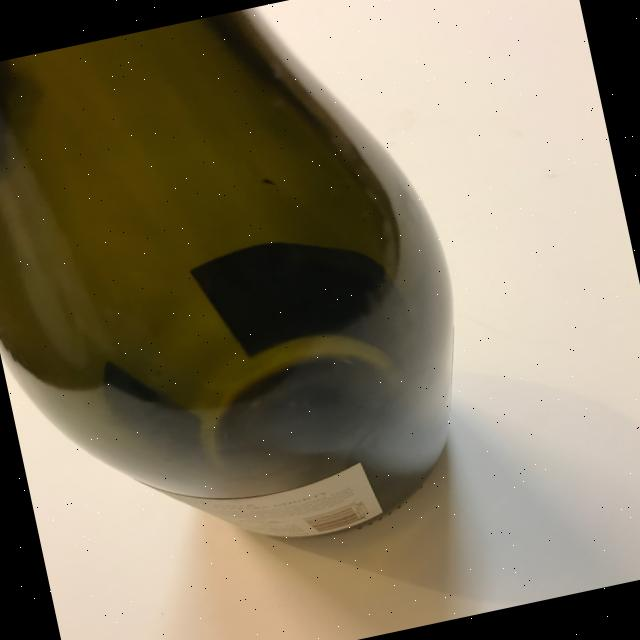glass: (0, 0, 498, 594)
